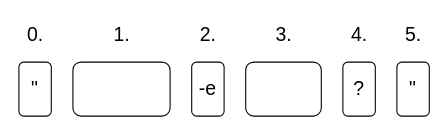
Some shapes in this 448 by 135 pixel diagram are drawn without their labels. Each missing label, with the centre of its shape:
"Kialudta" goes at (x=121, y=88).
"magát" goes at (x=283, y=88).
